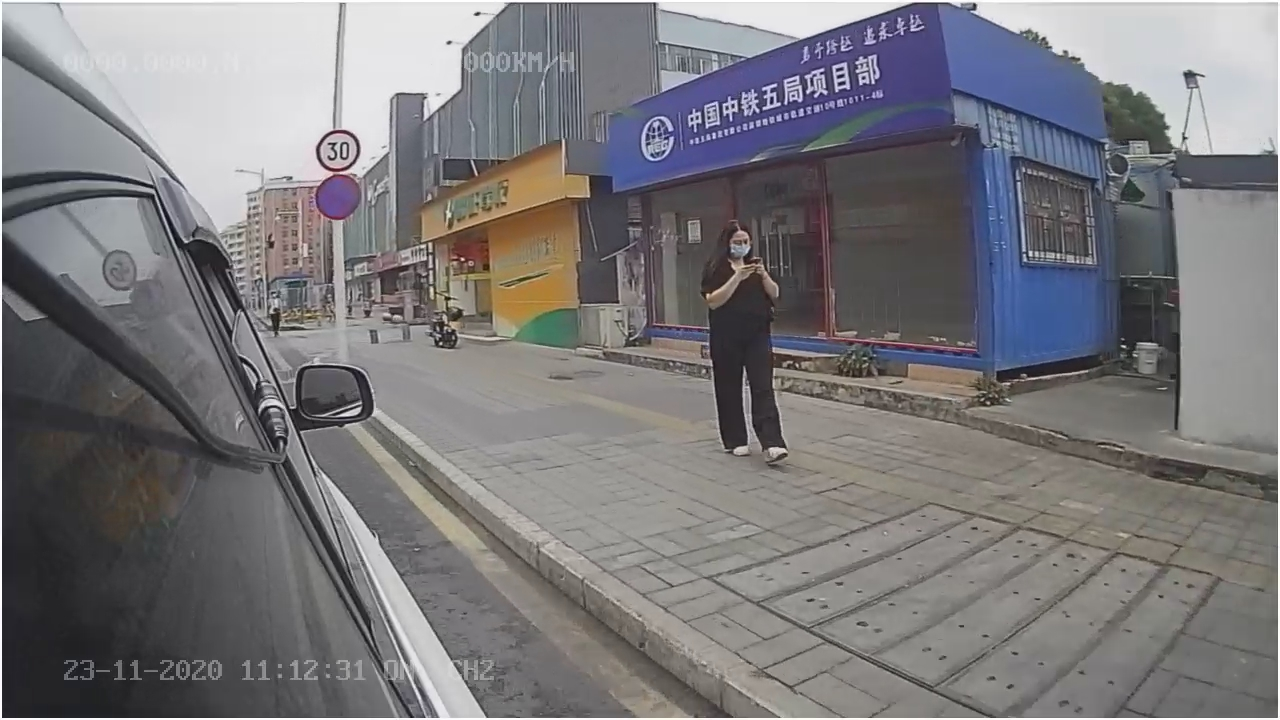person: (694, 224, 800, 483)
